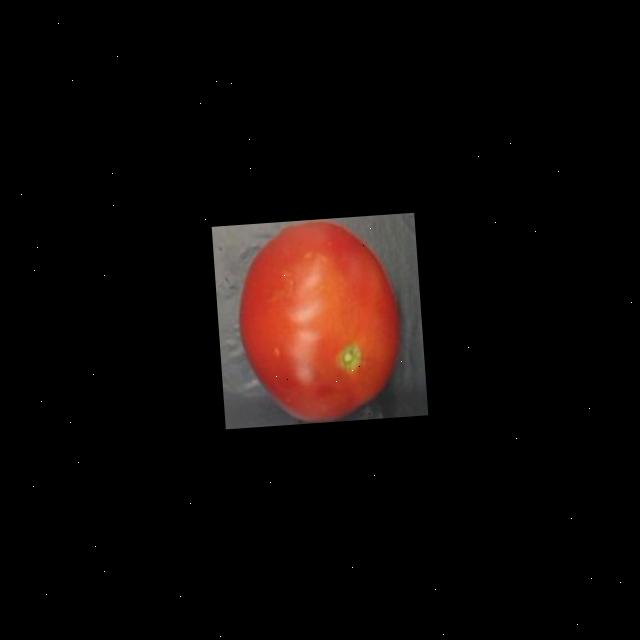tomato: (232, 213, 408, 427)
